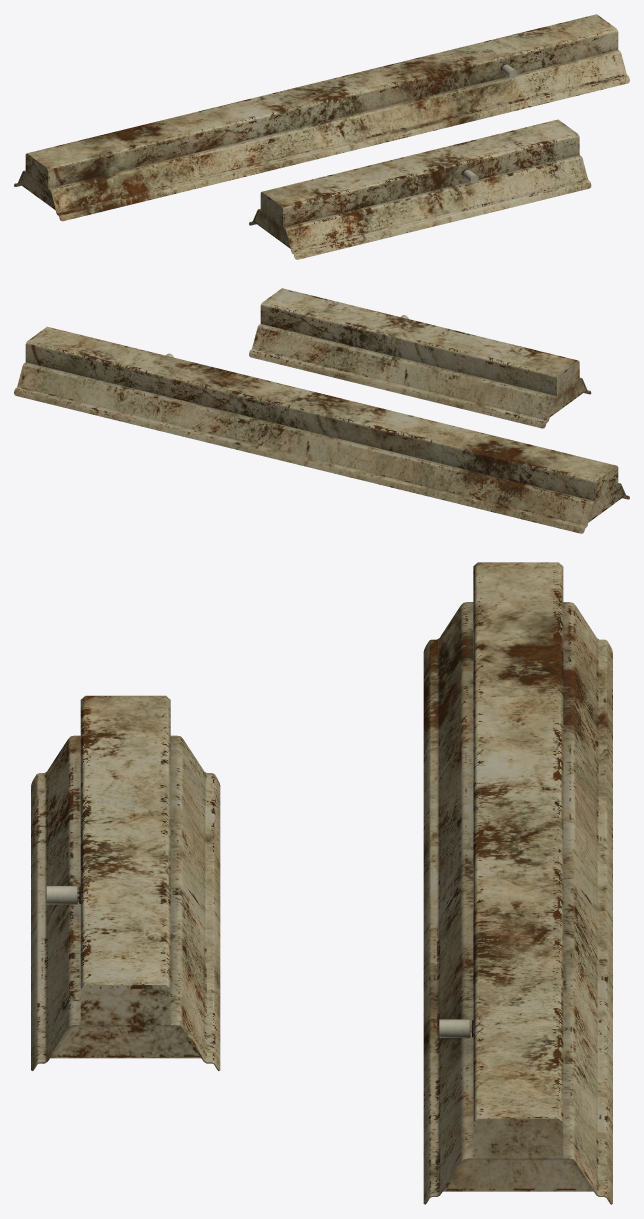
The model's file is Fluorescent_Blub_1C.fbx.
3 views of the same model, one above another, from view 1: azimuth 30°, elevation 25°; view 2: azimuth 150°, elevation 25°; view 3: azimuth 270°, elevation 25° (orthographic). The views are drawn at different scales.
Parts seen in each view (by area): view 1: light_large, light_small; view 2: light_large, light_small; view 3: light_large, light_small.
Part boxes in pixels (bbox=[...]): light_large: bbox=[14, 14, 629, 221]; light_small: bbox=[249, 119, 591, 259]; light_large: bbox=[14, 326, 629, 533]; light_small: bbox=[249, 288, 591, 428]; light_large: bbox=[423, 562, 612, 1204]; light_small: bbox=[31, 695, 220, 1070].
Size of the model in its own units: 91.44 by 6.77 by 40.42.
